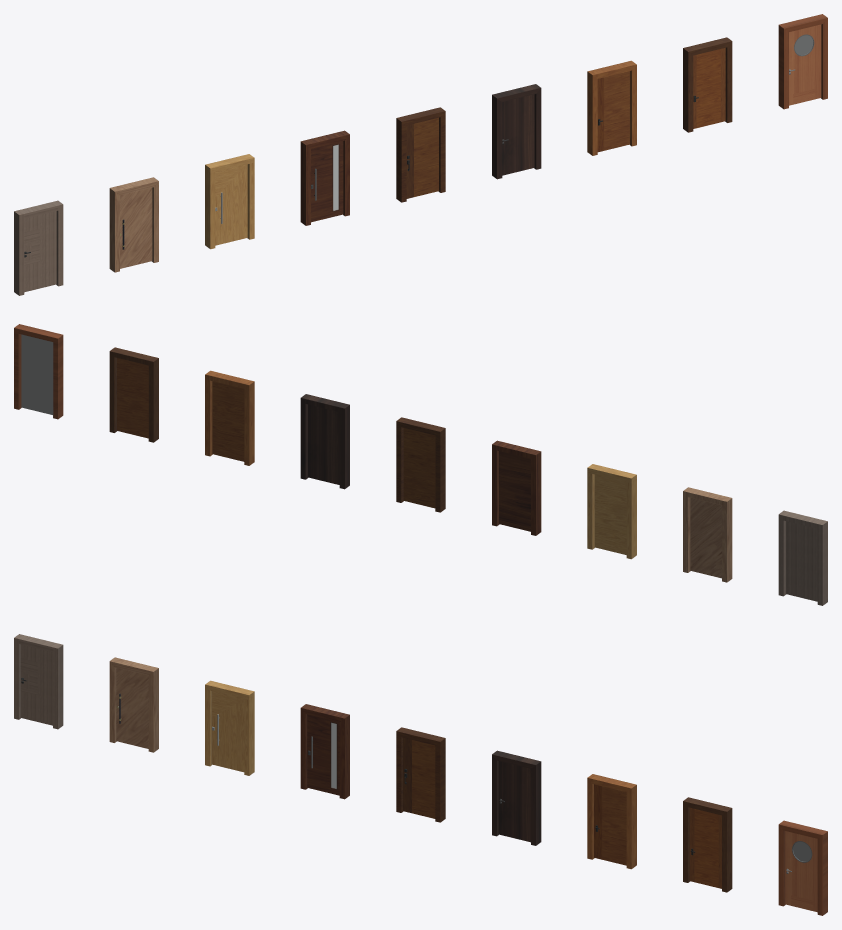
Rendered from Door_X9.fbx.
3 renders of one model, top to bottom at view 1: azimuth 30°, elevation 25°; view 2: azimuth 150°, elevation 25°; view 3: azimuth 330°, elevation 25°, orthographic.
Parts seen in each view (by area): view 1: Door_02, Door_03, Door_04, Door_06, Door_09, Door_05, Door_01, Door_08, Door_07, Door_Frame_01, Door_Frame_08, Door_Frame_06 (+6 smaller); view 2: Door_03, Door_07, Door_05, Door_06, Door_09, Door_01, Door_02, Door_04, Door_08, Door_Frame_01, Door_Frame_08, Door_Frame_05 (+6 smaller); view 3: Door_03, Door_04, Door_01, Door_05, Door_02, Door_07, Door_08, Door_06, Door_09, Door_Frame_02, Door_Frame_09, Door_Frame_04 (+6 smaller).
Part boxes in pixels (box(x1,y1,x2,y2)): Door_02: box(120, 187, 152, 268); Door_03: box(215, 164, 247, 245); Door_04: box(311, 141, 343, 222); Door_06: box(502, 94, 534, 175); Door_09: box(789, 24, 821, 105); Door_05: box(406, 117, 438, 198); Door_01: box(24, 211, 56, 292); Door_08: box(693, 48, 725, 128); Door_07: box(597, 71, 629, 152); Door_Frame_01: box(14, 200, 63, 295); Door_Frame_08: box(683, 37, 732, 132); Door_Frame_06: box(492, 84, 541, 179); Door_03: box(594, 474, 626, 554); Door_07: box(212, 381, 244, 461); Door_05: box(403, 428, 435, 508); Door_06: box(308, 404, 339, 484); Door_09: box(21, 334, 52, 414); Door_01: box(786, 521, 817, 601); Door_02: box(690, 498, 721, 578); Door_04: box(499, 451, 530, 531); Door_08: box(117, 358, 148, 438); Door_Frame_01: box(778, 510, 827, 605); Door_Frame_08: box(109, 347, 158, 442); Door_Frame_05: box(396, 417, 445, 512); Door_03: box(211, 691, 244, 772); Door_04: box(307, 714, 339, 795); Door_01: box(20, 644, 52, 725); Door_05: box(403, 737, 435, 818); Door_02: box(116, 668, 148, 748); Door_07: box(594, 784, 626, 865); Door_08: box(689, 807, 721, 888); Door_06: box(498, 761, 530, 842); Door_09: box(785, 831, 817, 912); Door_Frame_02: box(109, 657, 158, 752); Door_Frame_09: box(778, 820, 827, 915); Door_Frame_04: box(300, 704, 349, 799).
Size of the model in its own units: 2539 by 242 by 28.82.
